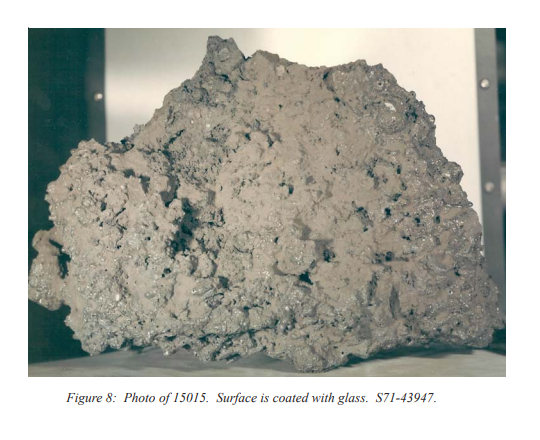Breccia: (41, 58, 497, 365), (62, 147, 342, 298), (184, 147, 451, 305)
